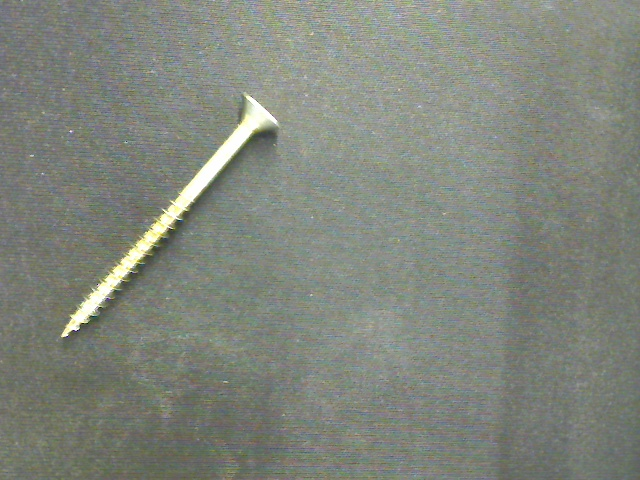screw: (61, 90, 281, 337)
